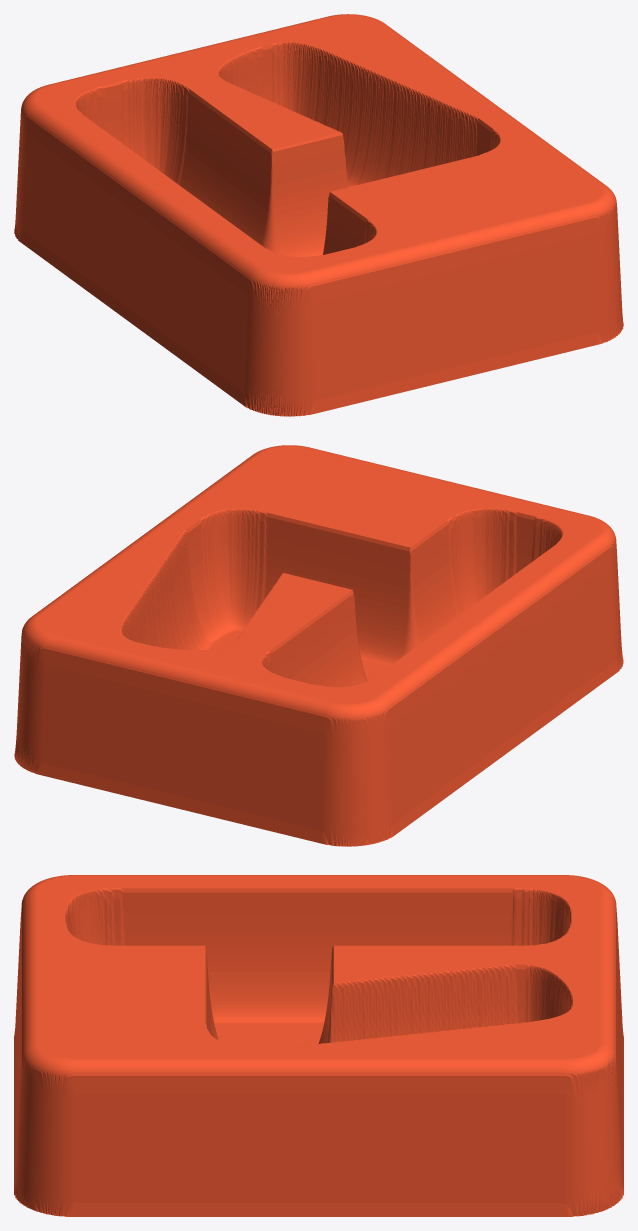
Rendered from mold.glb.
3 views of the same model, one above another, from view 1: azimuth 30°, elevation 25°; view 2: azimuth 150°, elevation 25°; view 3: azimuth 270°, elevation 25° (orthographic). The views are drawn at different scales.
Visible parts, largest first — view 1: geometry_0; view 2: geometry_0; view 3: geometry_0.
Part boxes in pixels (x1,y1,x2,y2): geometry_0: [14, 14, 623, 416]; geometry_0: [14, 445, 623, 846]; geometry_0: [14, 875, 623, 1216].
Size of the model in its own units: 0.0724 by 0.0248 by 0.0924.
